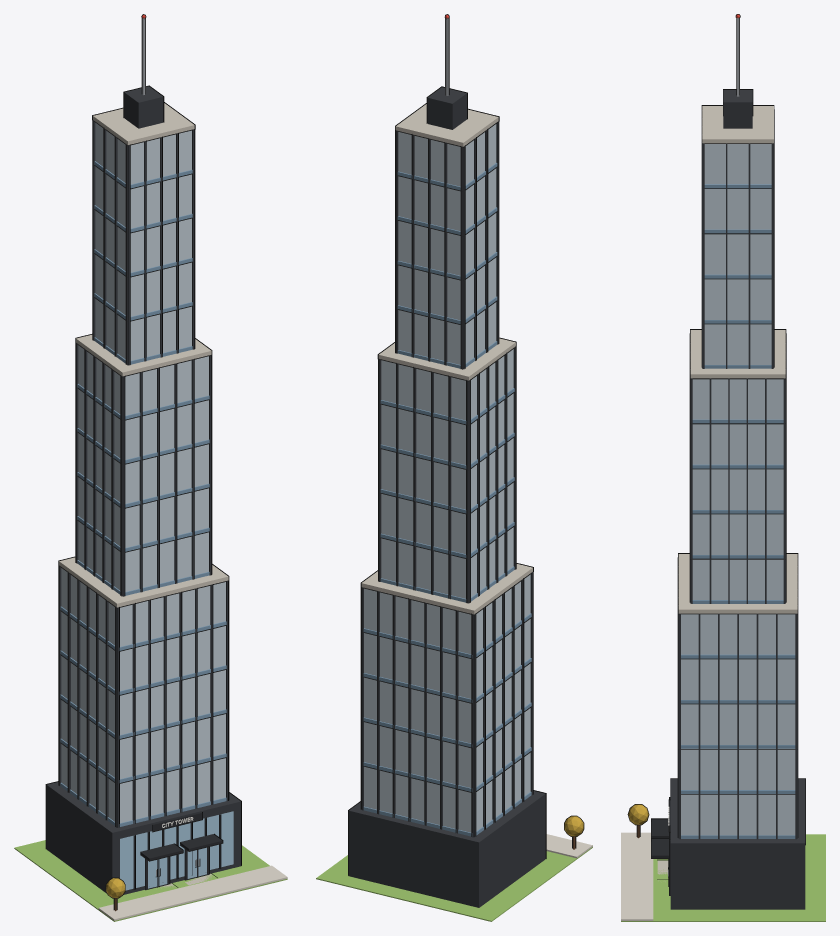
The model's file is Buro_is_kulesi_3.fbx.
The picture shows the model from 3 angles, left to right: view 1: azimuth 30°, elevation 25°; view 2: azimuth 150°, elevation 25°; view 3: azimuth 270°, elevation 25°; orthographic projection. The views are drawn at different scales.
Parts seen in each view (by area): view 1: Buro_is_kulesi_3; view 2: Buro_is_kulesi_3; view 3: Buro_is_kulesi_3.
Boxes of the visible parts, left/top/right/bottom form: Buro_is_kulesi_3: left=14, top=14, right=287, bottom=921; Buro_is_kulesi_3: left=316, top=14, right=592, bottom=921; Buro_is_kulesi_3: left=621, top=14, right=825, bottom=921.
Bounding box in the file's own units: 14 × 65.23 × 14.
